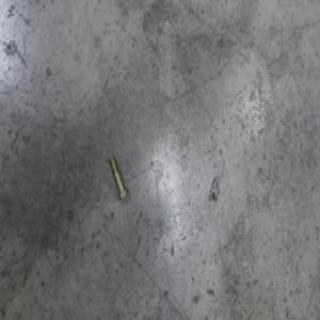Bolttrack_idkeyframe: (106, 155, 126, 202)
